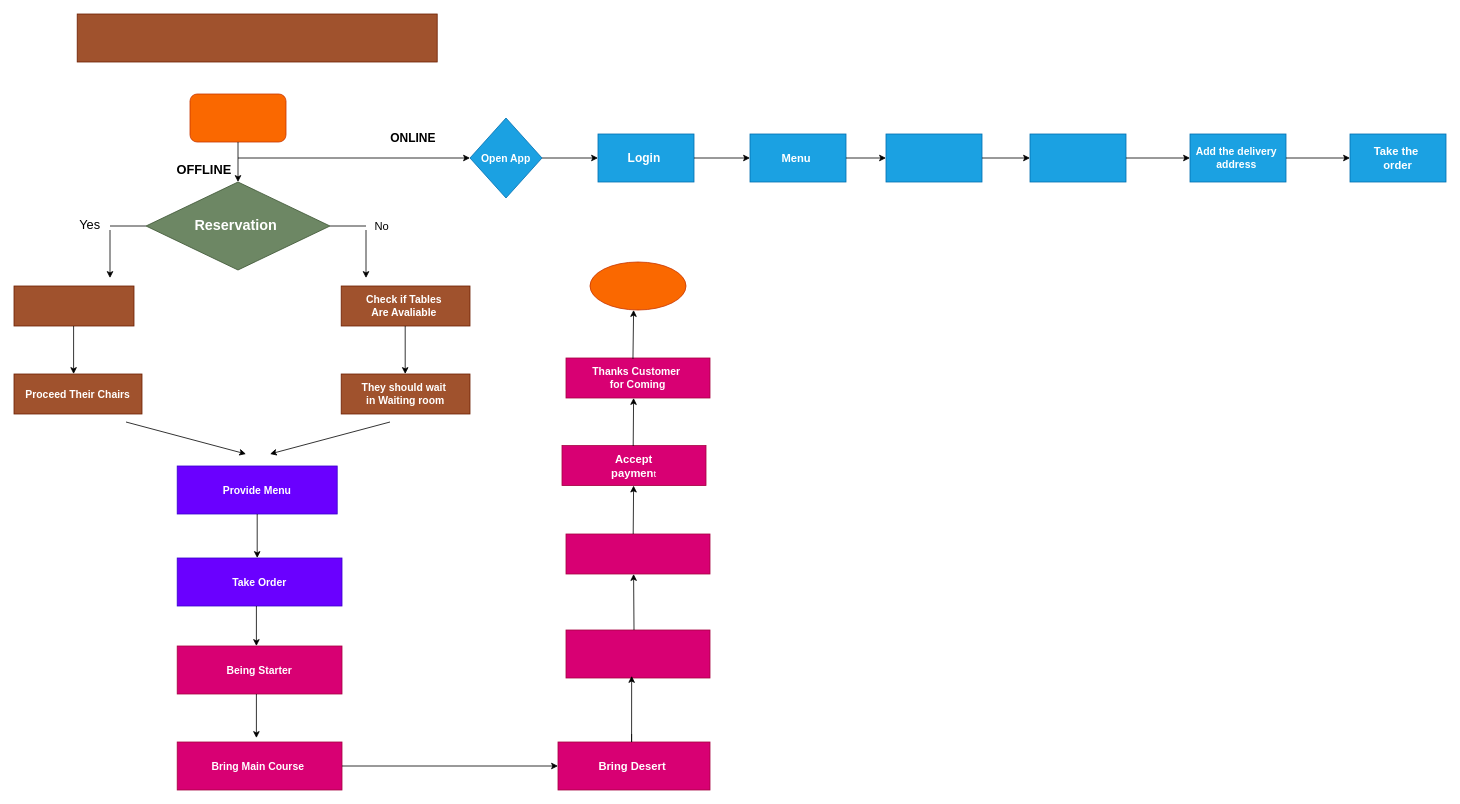
Some shapes in this 1460 by 804 pixel diagram are drawn without their labels. Each missing label, with the centre of its shape:
"Add the items in your cart" belongs at point (933, 157).
"Ask the Payment model" belongs at point (637, 553).
"Ask them If anything they want" belongs at point (637, 653).
"Confirm Reservation" belongs at point (73, 305).
"End" belongs at point (637, 285).
"Restaurant Flow chart" belongs at point (256, 37).
"Select Payment Model" belongs at point (1077, 157).
"Start" belongs at point (237, 117).
